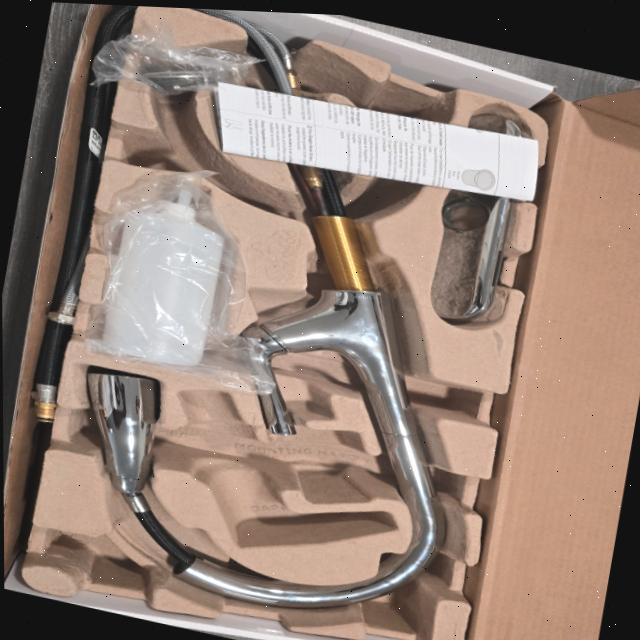1: (88, 19, 446, 607)
2m: (176, 391, 398, 546)
3: (105, 184, 228, 365)
4o: (430, 112, 523, 319)
5m: (362, 89, 436, 149)
6: (87, 25, 266, 89)
7m: (119, 120, 259, 199)
8: (212, 81, 538, 201)
